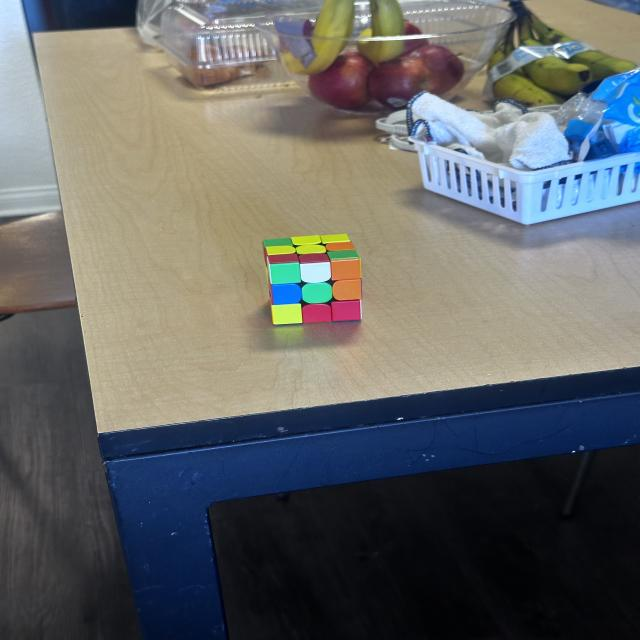sticker: (329, 298, 363, 322), (300, 259, 332, 284), (269, 262, 301, 286), (330, 258, 362, 281), (271, 303, 304, 325), (302, 282, 333, 305), (271, 283, 303, 305), (301, 302, 333, 324), (332, 279, 362, 301), (264, 244, 296, 260), (266, 252, 298, 265), (298, 252, 330, 264), (325, 241, 357, 252), (291, 235, 322, 246), (320, 233, 350, 244), (327, 250, 359, 260), (264, 238, 292, 249), (296, 244, 326, 254)
